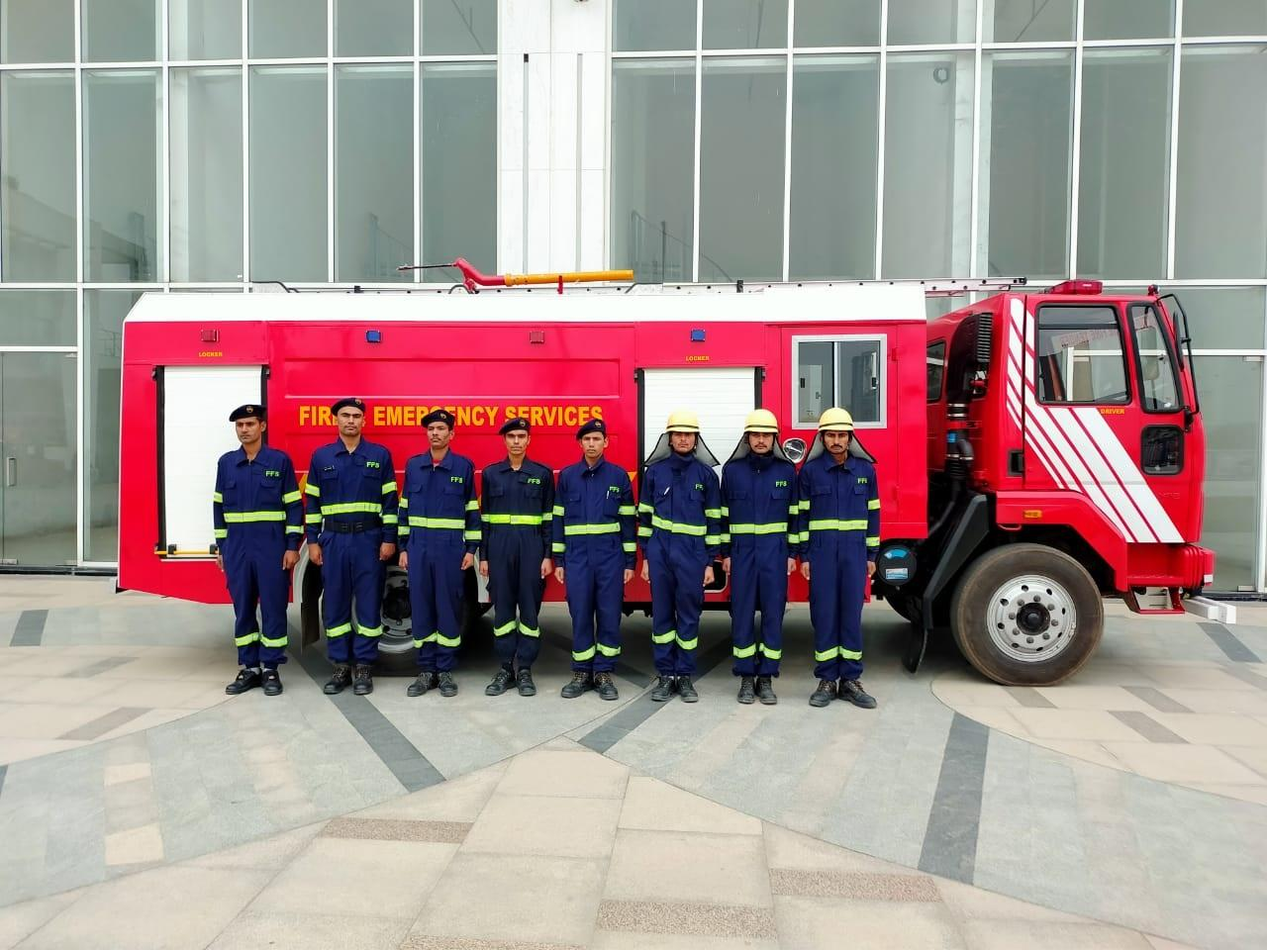Fire-engine: (107, 279, 1246, 676)
